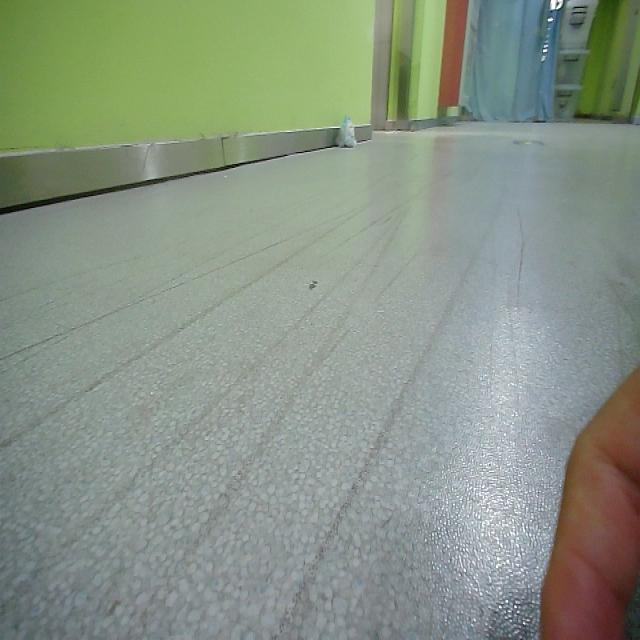xiaoba: (338, 110, 357, 151)
